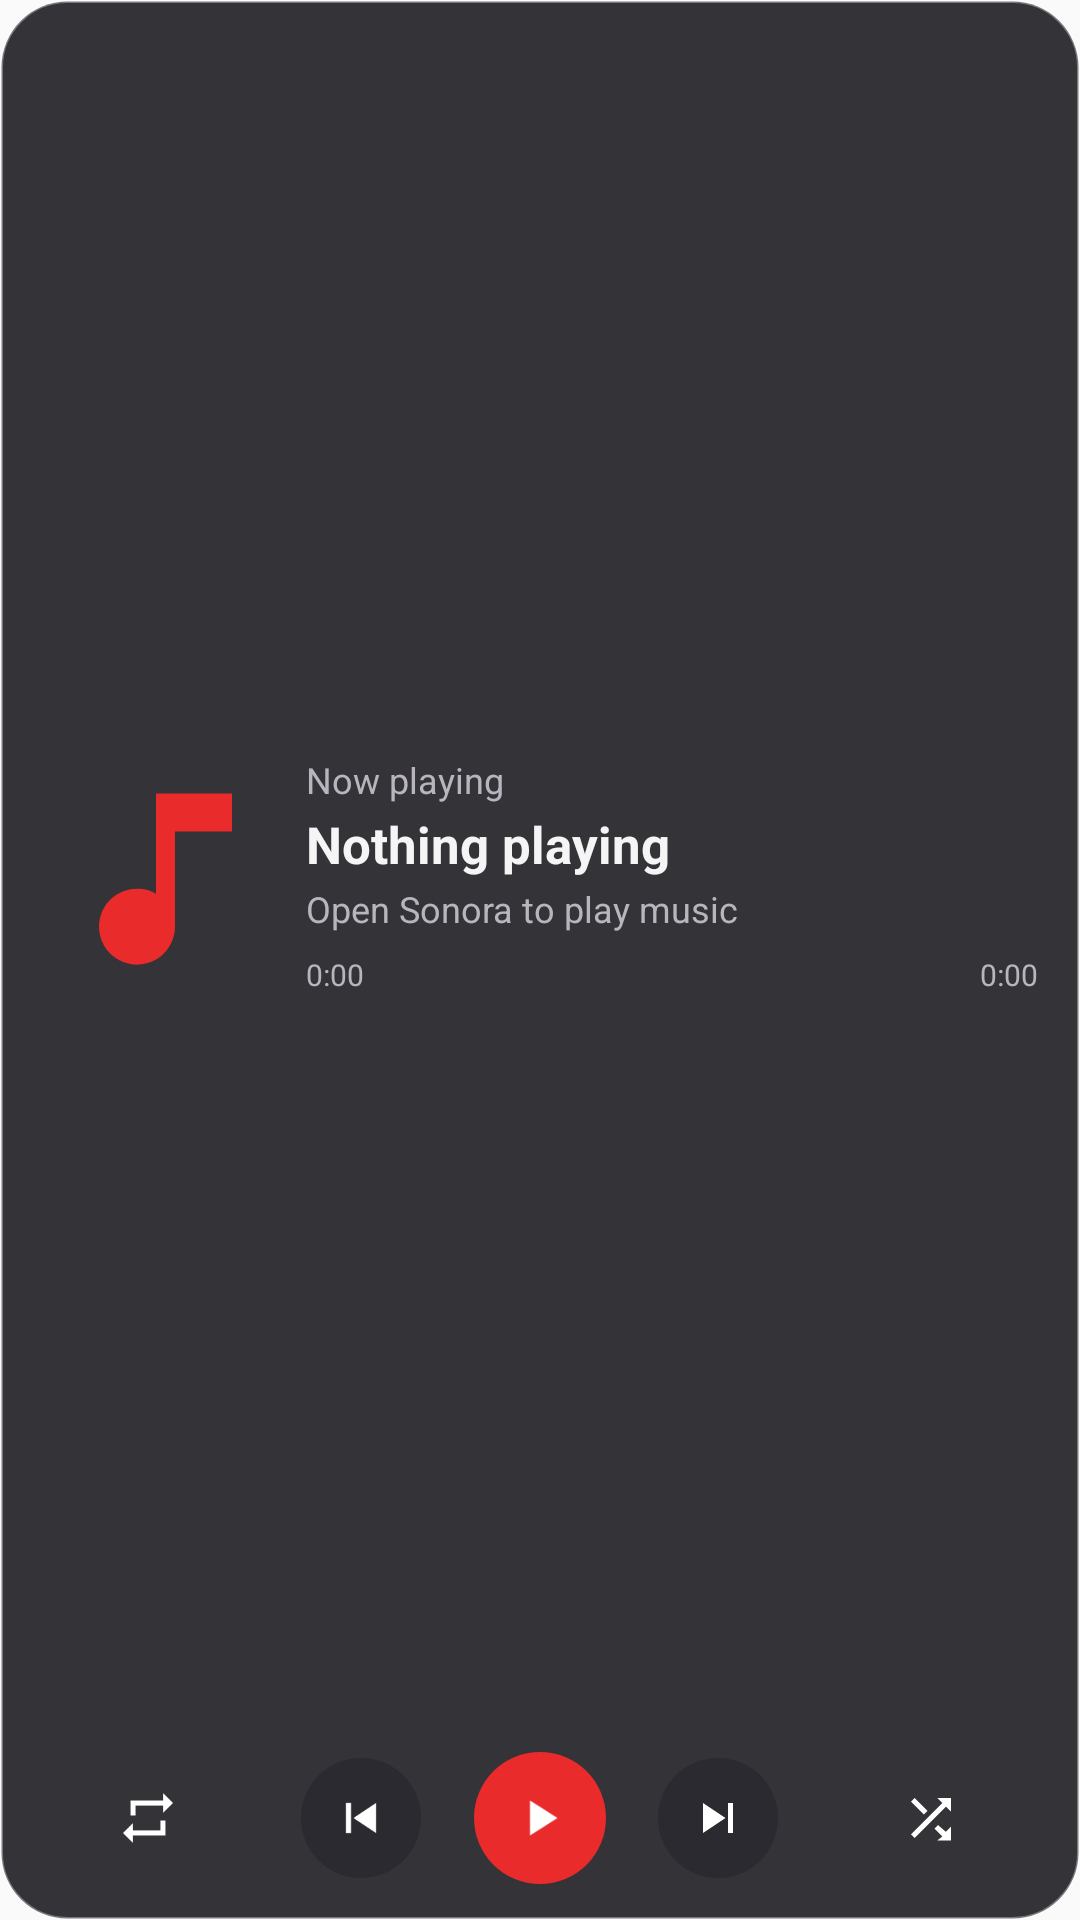

Screen size 1080px×1920px. Icon name, then its box in pixels as bbox(x1, y1, x2, y2):
Album artwork: bbox(99, 793, 232, 965)
Next track: bbox(703, 1803, 733, 1833)
Previous track: bbox(346, 1803, 376, 1833)
Repeat mode: bbox(123, 1793, 173, 1843)
Shuffle: bbox(911, 1798, 951, 1841)
